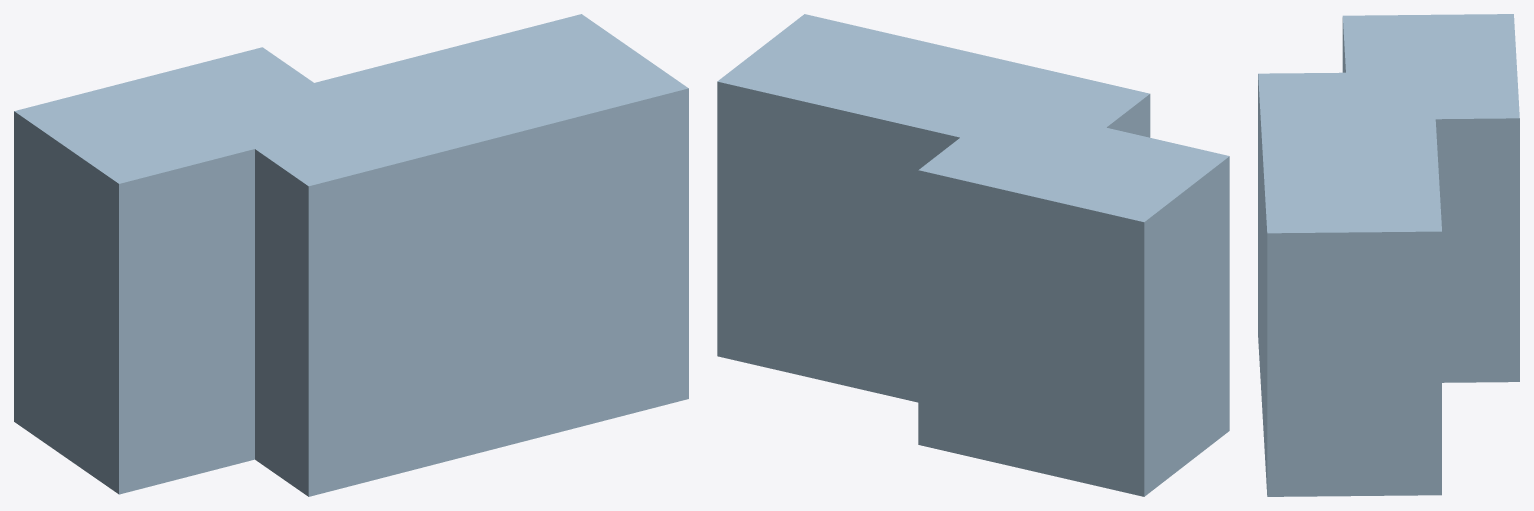
Rendered from osm_way_223859824.glb.
3 views of the same model, side by side, from view 1: azimuth 30°, elevation 25°; view 2: azimuth 150°, elevation 25°; view 3: azimuth 270°, elevation 25° (orthographic). The views are drawn at different scales.
Parts seen in each view (by area): view 1: osm_way_223859824; view 2: osm_way_223859824; view 3: osm_way_223859824.
Boxes of the visible parts, x1,y1,x2,y2 form: osm_way_223859824: (14,14,688,496); osm_way_223859824: (717,14,1229,496); osm_way_223859824: (1258,14,1519,496).
Bounding box in the file's own units: 34.25 × 19.2 × 17.27.
